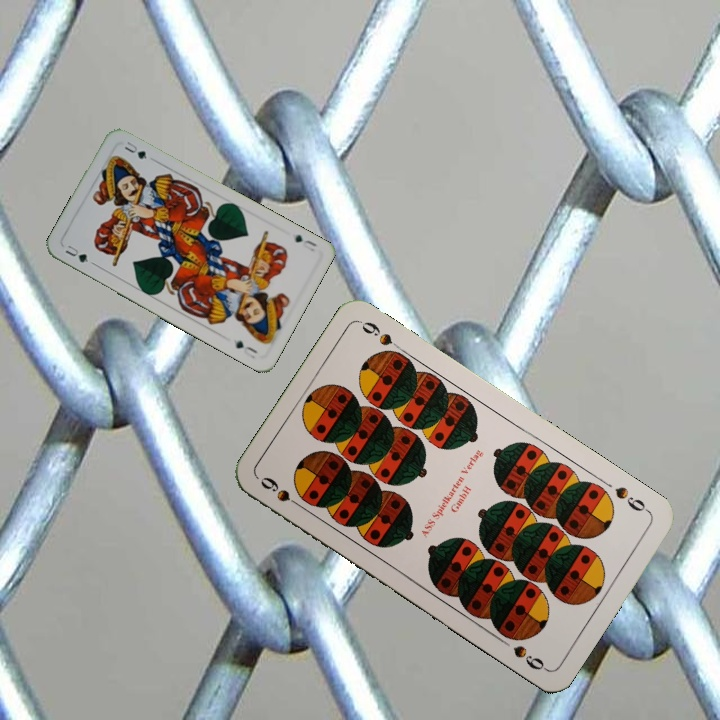GU: (61, 241, 91, 265), (291, 230, 319, 254)
S9: (256, 472, 308, 513), (610, 482, 653, 516)
